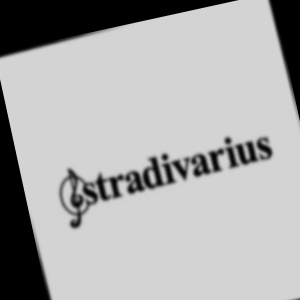stradivarius: (247, 52, 300, 173)
